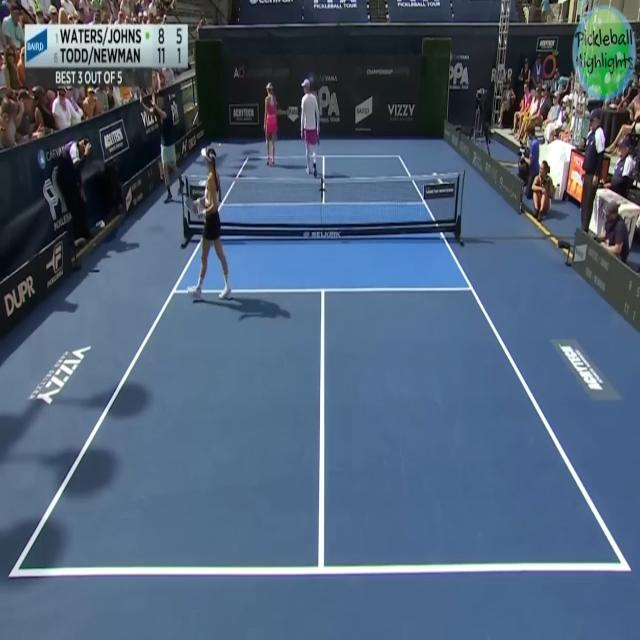Pickleball: (218, 140, 222, 148)
